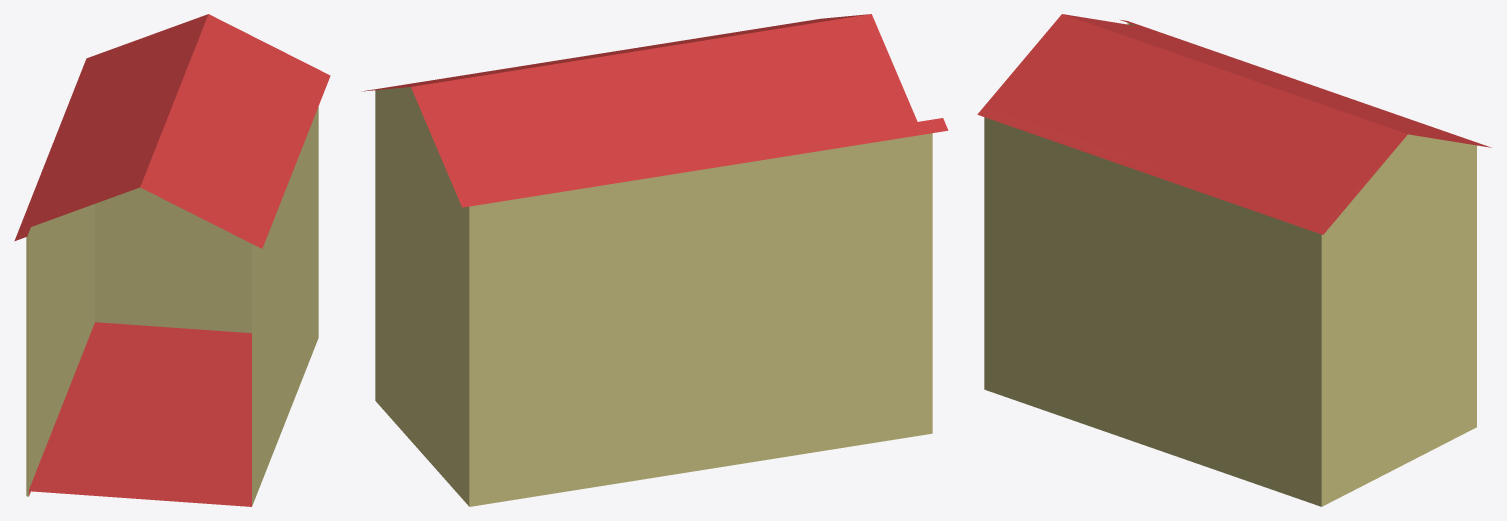
3 views of the same model, side by side, from view 1: azimuth 30°, elevation 25°; view 2: azimuth 150°, elevation 25°; view 3: azimuth 270°, elevation 25° (orthographic). The views are drawn at different scales.
Parts seen in each view (by area): view 1: group_5, group_3, group_6, group_4; view 2: group_5, group_3, group_4; view 3: group_5, group_3, group_4.
Part boxes in pixels (bbox=[...]): group_5: bbox=[26, 107, 318, 505]; group_3: bbox=[14, 14, 330, 248]; group_6: bbox=[29, 322, 251, 506]; group_4: bbox=[27, 23, 327, 247]; group_5: bbox=[375, 87, 932, 506]; group_3: bbox=[361, 14, 948, 207]; group_4: bbox=[393, 22, 941, 207]; group_5: bbox=[984, 22, 1476, 506]; group_3: bbox=[977, 14, 1491, 234]; group_4: bbox=[979, 40, 1486, 233].
Bounding box in the file's own units: 22.43 × 22.84 × 16.41.
